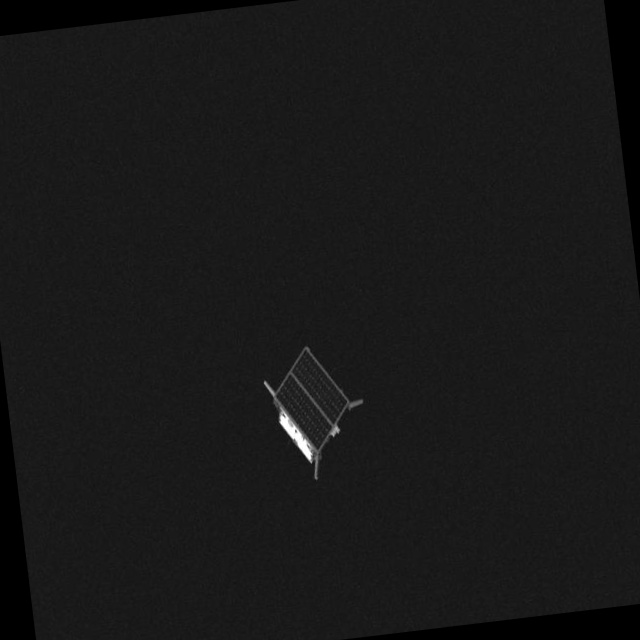medium_debris: (253, 335, 381, 491)
